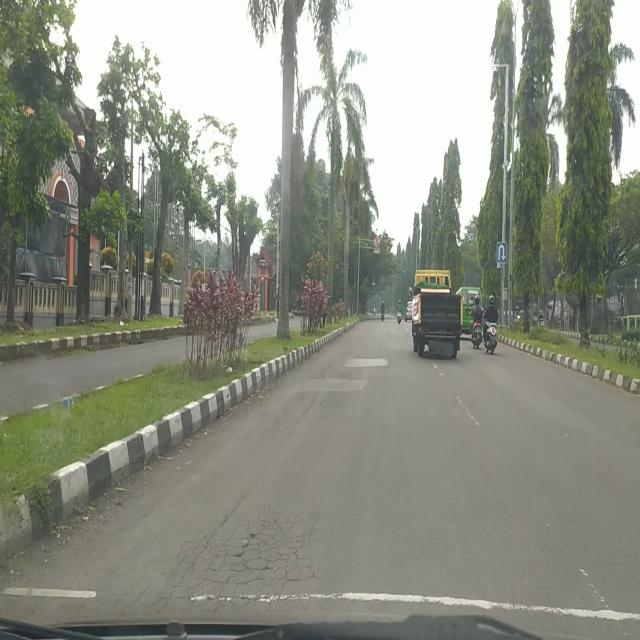Drain Hole: (151, 504, 321, 610)
